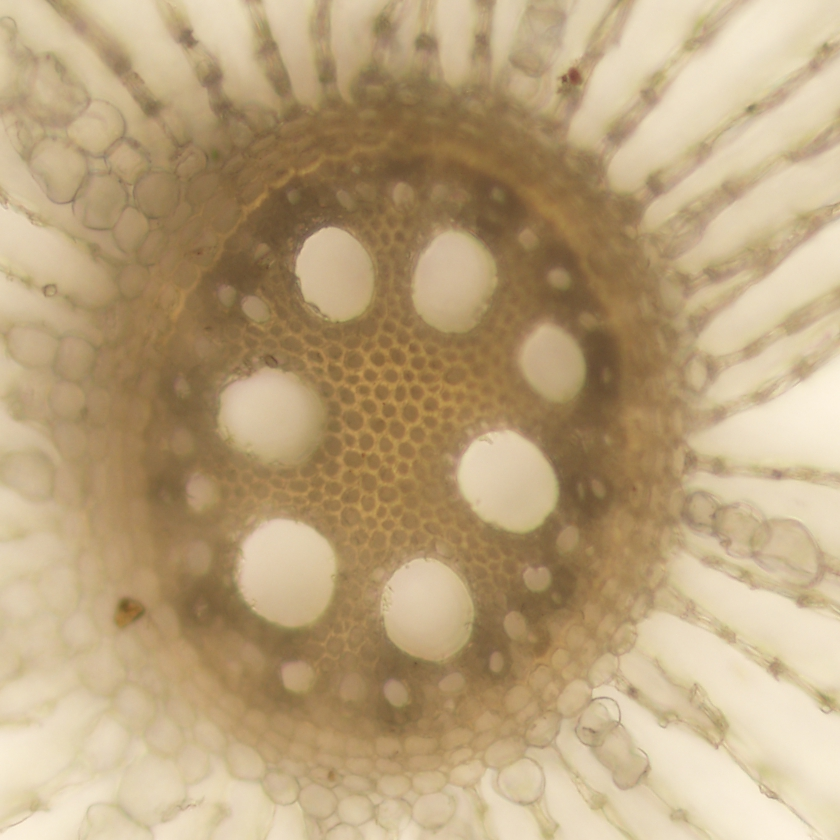lm: (214, 365, 328, 470), (235, 518, 337, 628), (457, 430, 561, 532), (378, 557, 475, 663), (410, 227, 499, 335), (296, 225, 375, 324), (519, 322, 586, 404)
